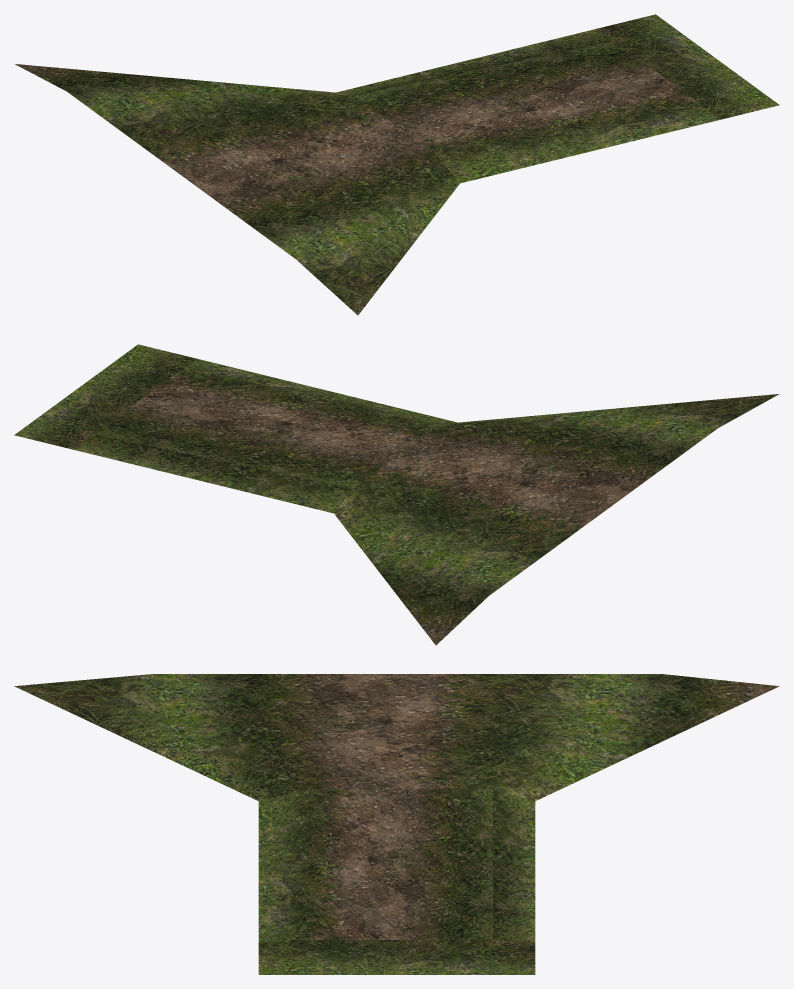
Rendered from Path03.fbx.
3 views of the same model, one above another, from view 1: azimuth 30°, elevation 25°; view 2: azimuth 150°, elevation 25°; view 3: azimuth 270°, elevation 25° (orthographic). The views are drawn at different scales.
Parts seen in each view (by area): view 1: Plane.001; view 2: Plane.001; view 3: Plane.001.
Boxes of the visible parts, x1,y1,x2,y2 form: Plane.001: (15, 14, 779, 315); Plane.001: (14, 344, 778, 645); Plane.001: (14, 674, 779, 974).
Size of the model in its own units: 2.99 by 0.0586 by 3.35.
1 material, 1 textured.
